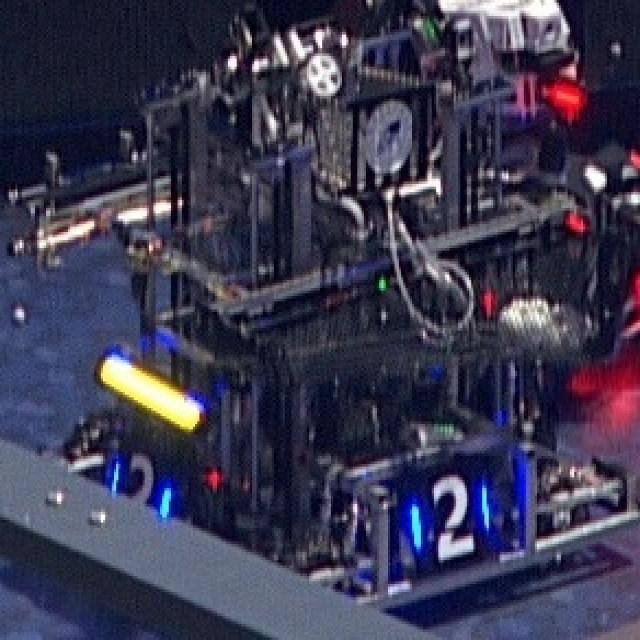B2: (410, 469, 493, 563)
